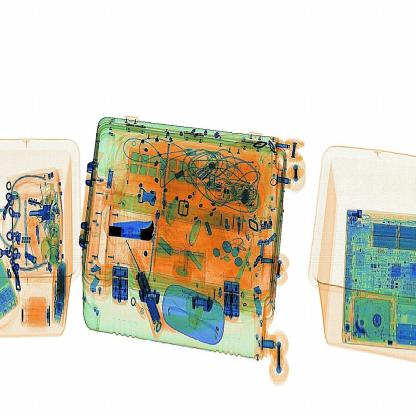knife: (106, 215, 164, 253)
